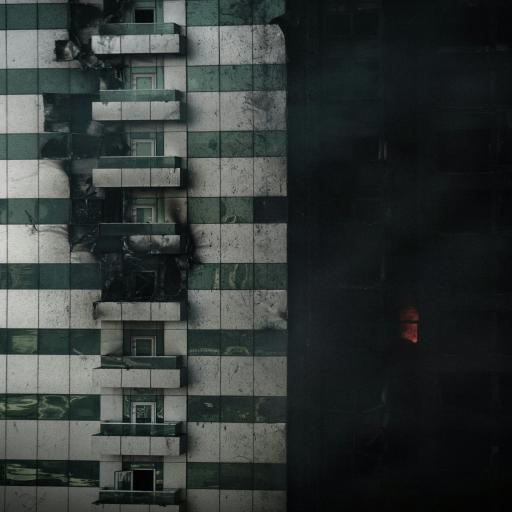smoke: (204, 12, 512, 511)
